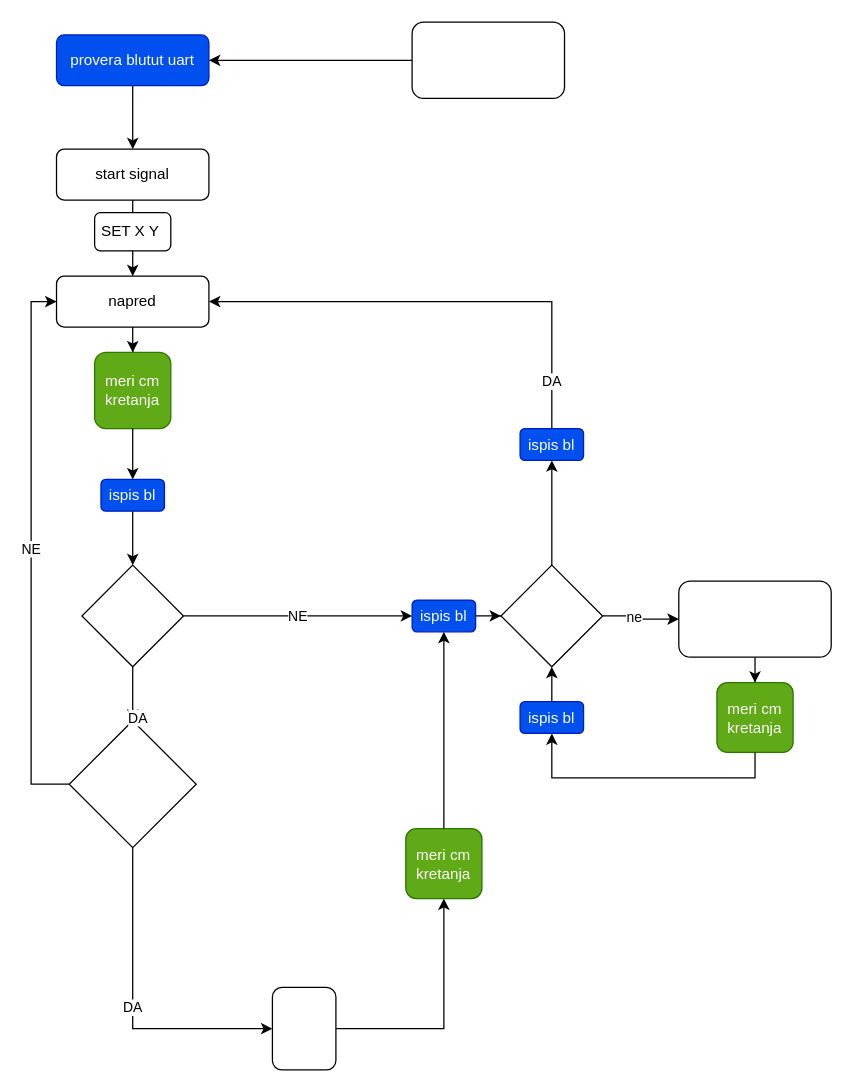
This 853x1092 diagram has some shape labels left out. Each missing label, with the centre of its shape:
"da li ima zid levo" belongs at point 132,615.
"finish" belongs at point 488,59.
"paralelno zid" belongs at point 754,618.
"rotira desno 90" belongs at point 303,1028.
"uhvati levi zid" belongs at point 551,615.
"ZID NAP 10cm" belongs at point 132,783.
